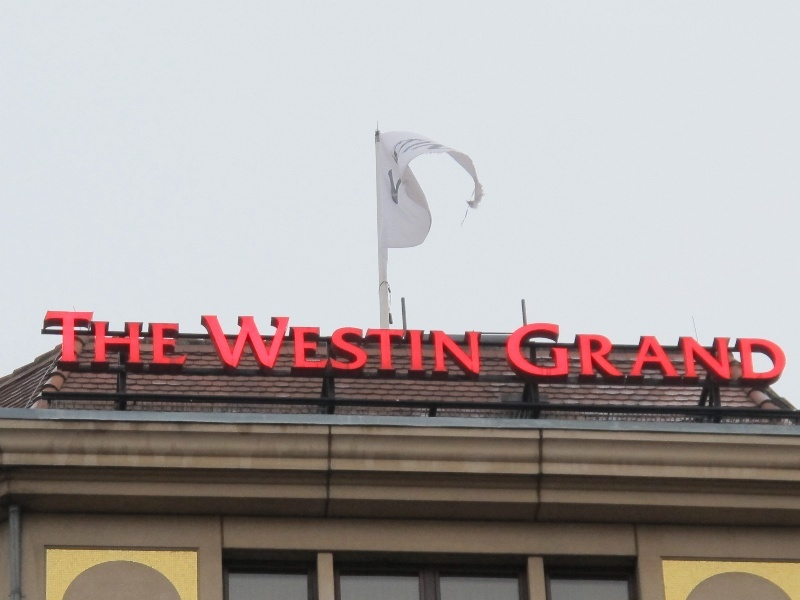text: (209, 315, 224, 376), (225, 315, 240, 376), (241, 315, 256, 376), (257, 315, 272, 376), (273, 315, 288, 376), (289, 315, 304, 376), (305, 315, 320, 376), (321, 315, 336, 376), (337, 315, 352, 376), (353, 315, 368, 376), (369, 315, 384, 376), (385, 315, 400, 376), (401, 315, 416, 376), (417, 315, 432, 376), (433, 315, 448, 376), (449, 315, 464, 376), (465, 315, 480, 376), (513, 321, 528, 382), (529, 321, 544, 382), (545, 321, 560, 382), (561, 321, 576, 382), (577, 321, 592, 382), (593, 321, 608, 382), (609, 321, 624, 382), (625, 321, 640, 382), (641, 321, 656, 382), (657, 321, 672, 382), (673, 321, 688, 382), (689, 321, 704, 382), (705, 321, 720, 382), (721, 321, 736, 382), (737, 321, 752, 382), (753, 321, 768, 382), (769, 321, 784, 382), (49, 308, 64, 366), (65, 308, 80, 366), (81, 308, 96, 366), (97, 308, 112, 366), (113, 308, 128, 366), (129, 308, 144, 366), (145, 308, 160, 366), (161, 308, 176, 366), (177, 308, 189, 366), (199, 315, 208, 376), (40, 308, 48, 366), (505, 321, 512, 382), (785, 321, 790, 382), (481, 315, 483, 376)
